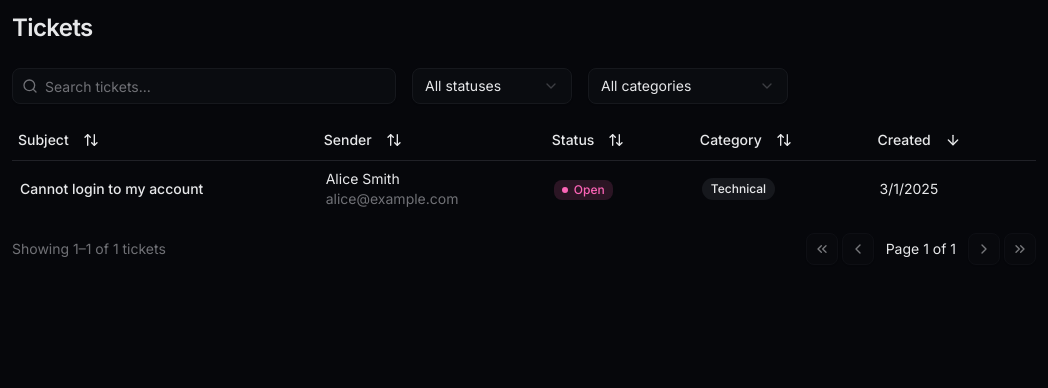
Test: TicketsPage › Clear filters › AC4 — unfiltered refresh › CASE-379746876d93: the unfiltered ticket rows are displayed after clearing
Expected: the link "Cannot login to my account" is shown, [20,180,203,196]
Type "login" into the field with placeholder "Search tickets..." at (204, 86), box [12,68,396,104]
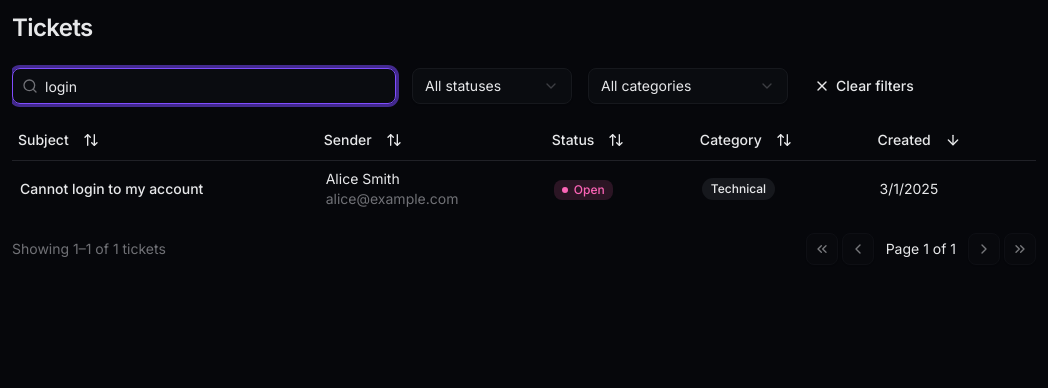
Expected: the text "Refund for order #123" is not shown
Click the button "Clear filters" at (864, 86), box [804,70,924,102]
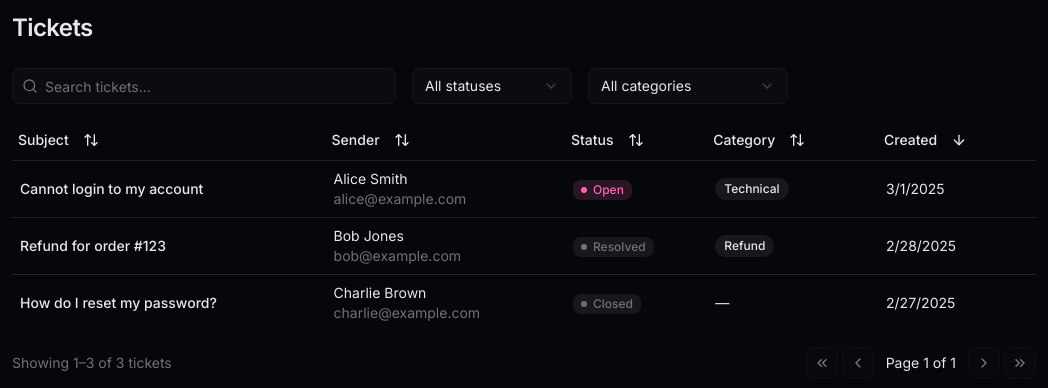
Expected: the link "Cannot login to my account" is shown, [20,180,203,196]
Now the link "Refund for order #123" is shown, box [20,236,166,254]
Now the link "How do I reset my password?" is shown, box [20,294,217,310]
